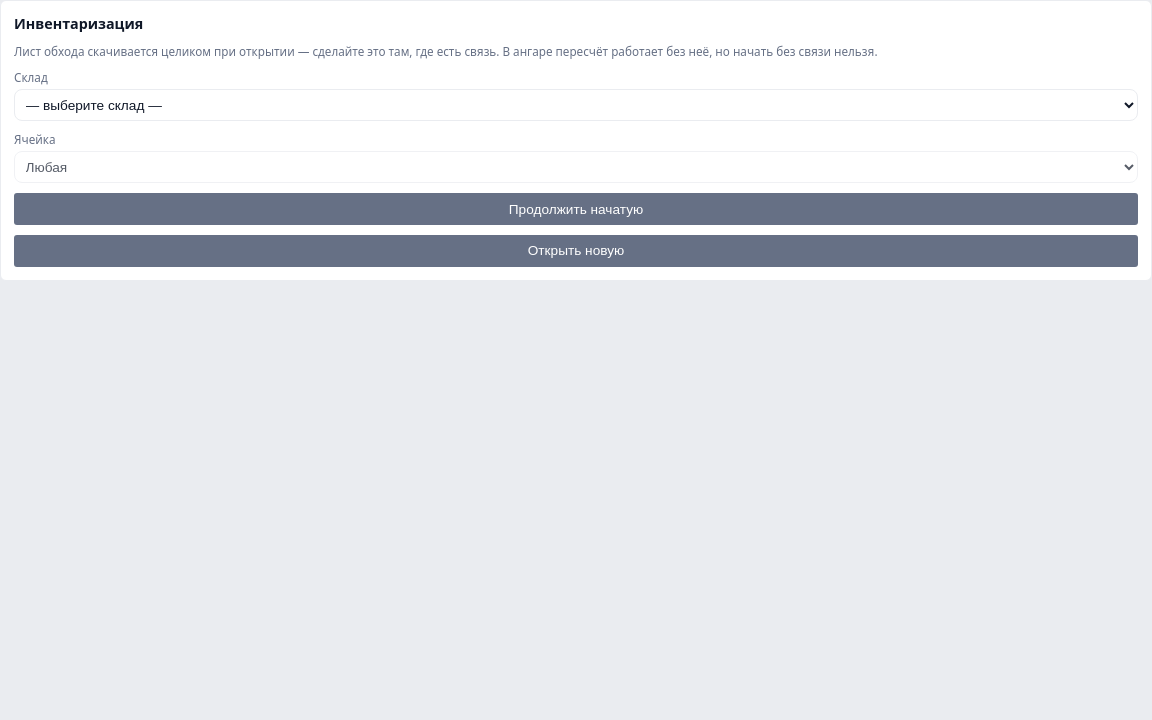
it: группы и вкладки пересчёта › вкладка «С проблемами» показывает только эту строку
Select "Ткацкая" in the dropdown labelled "Склад" at (576, 105), box [14,89,1138,121]
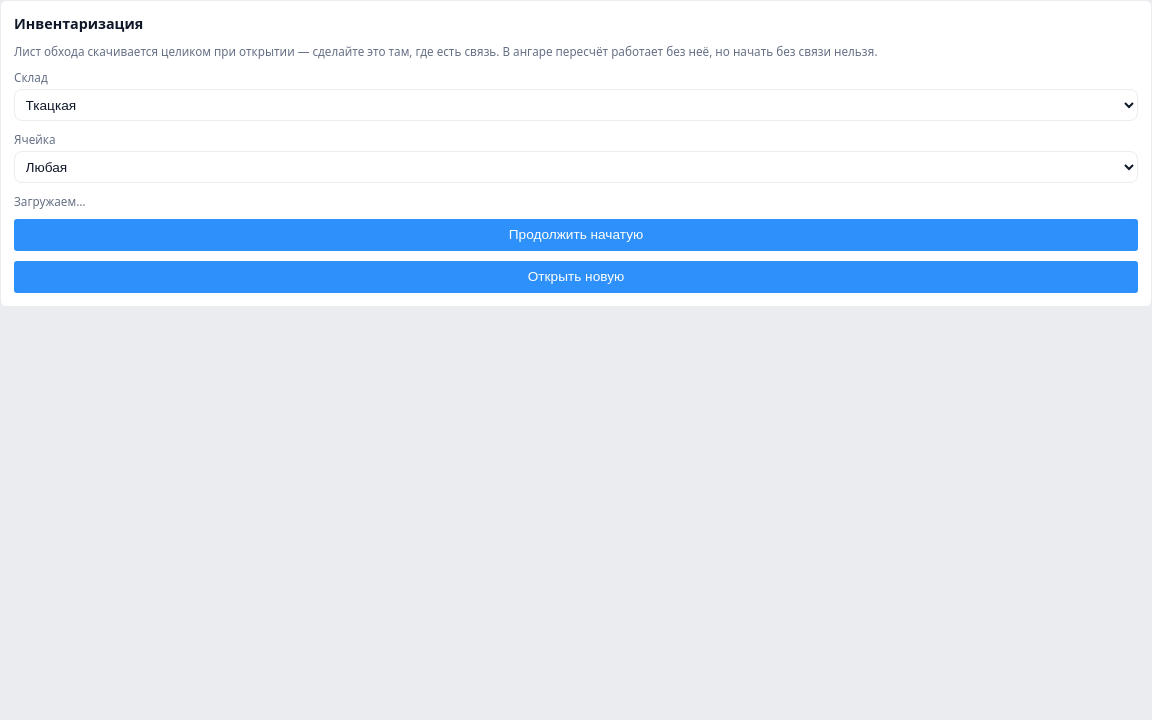
Click the button "Открыть новую" at (576, 277), box [14,261,1138,293]
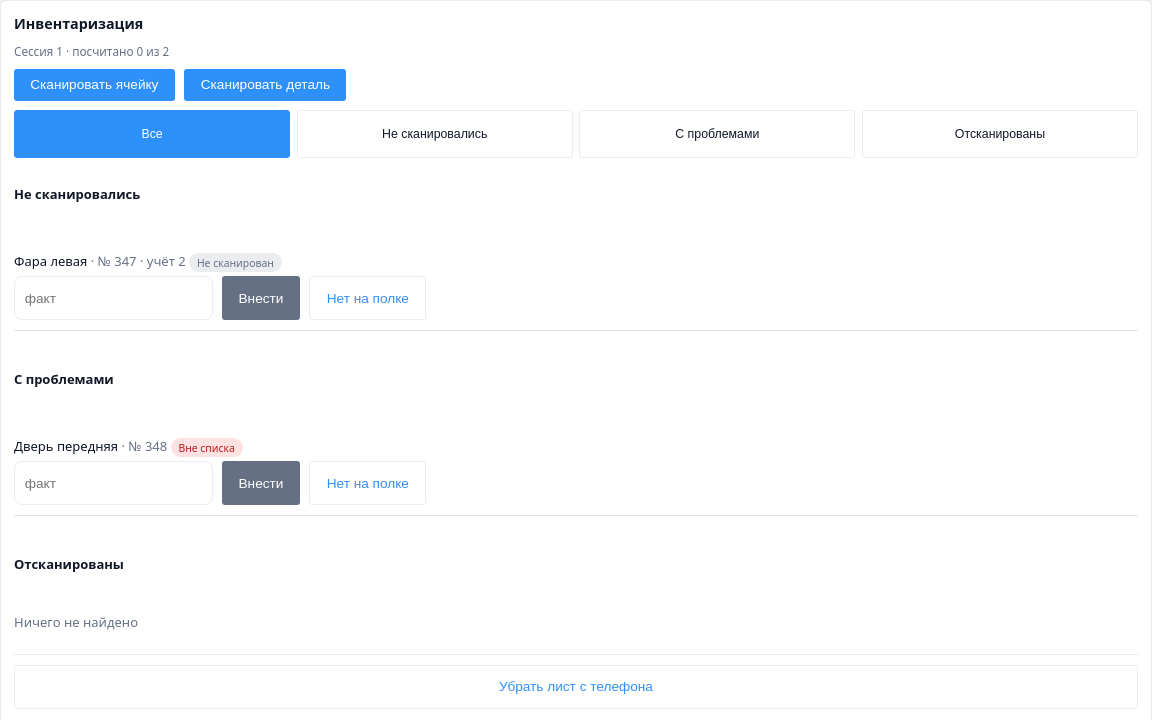
Now the text "Дверь передняя" is shown, box [14,437,118,455]
Click the button "С проблемами" at (717, 134), box [579,110,855,158]
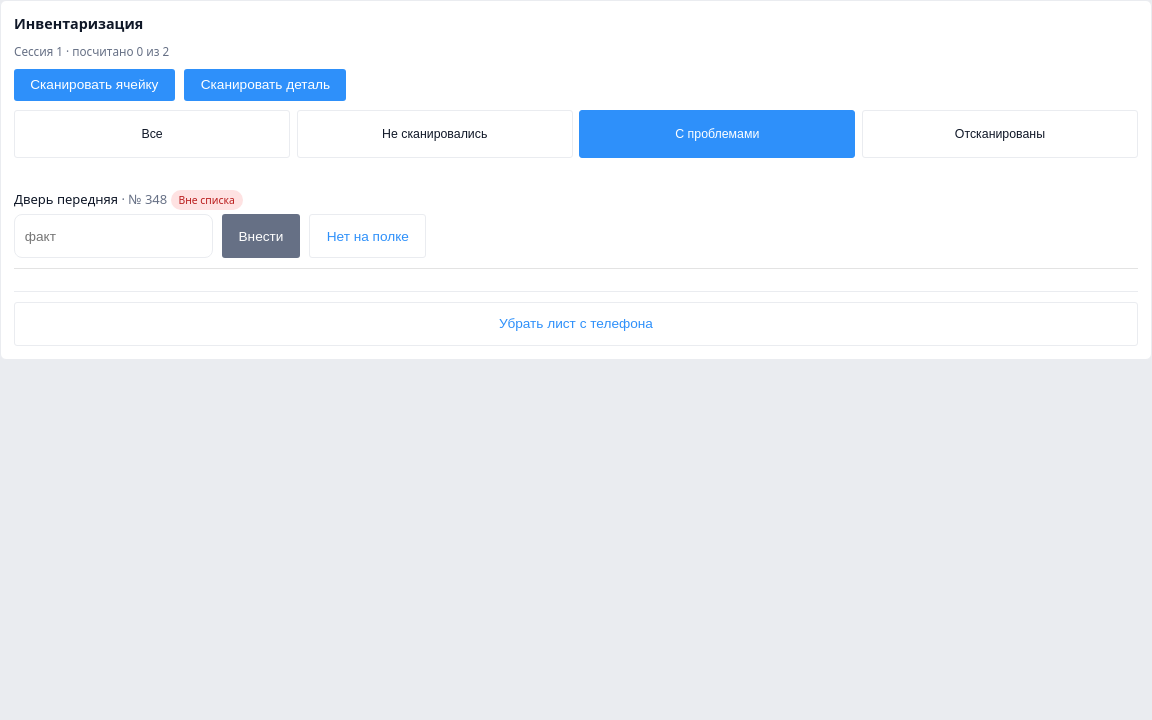
Now the text "Дверь передняя" is shown, box [14,190,118,208]
Now the text "Фара левая" is gone
